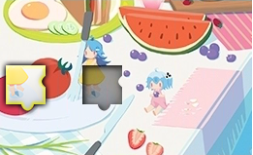gap: (83, 65, 122, 111)
